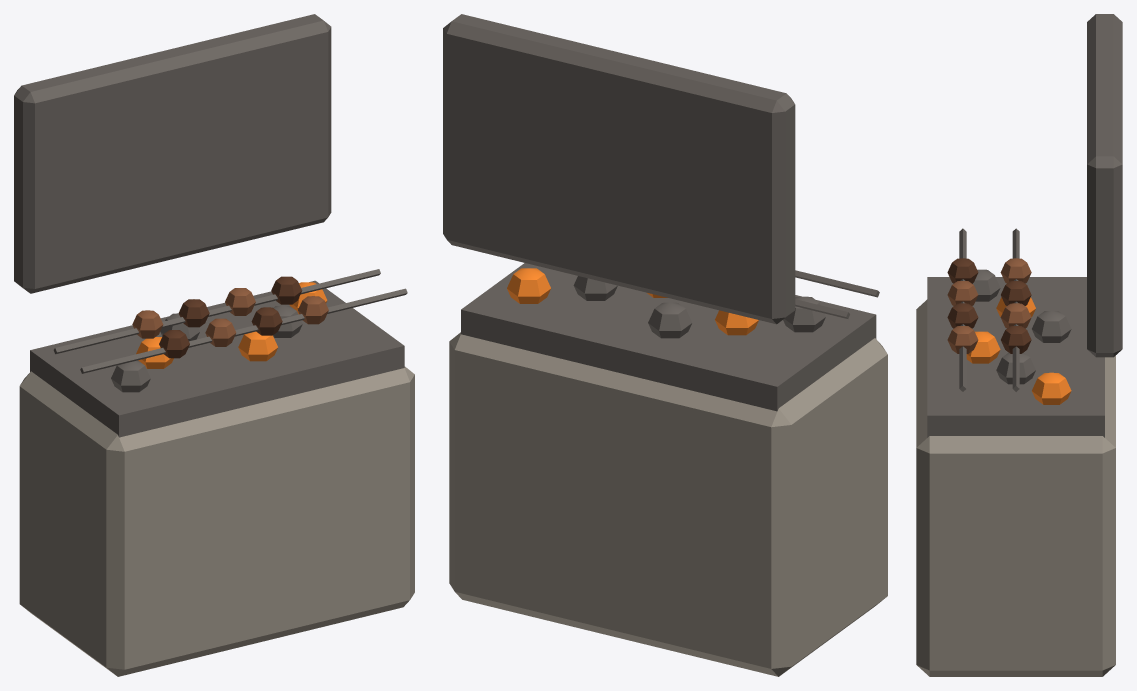
The model's file is PR_Station_Mangal_T1.fbx.
The picture shows the model from 3 angles, left to right: view 1: azimuth 30°, elevation 25°; view 2: azimuth 150°, elevation 25°; view 3: azimuth 270°, elevation 25°; orthographic projection. The views are drawn at different scales.
Parts seen in each view (by area): view 1: PR_Station_Mangal_T1; view 2: PR_Station_Mangal_T1; view 3: PR_Station_Mangal_T1.
Boxes of the visible parts, x1,y1,x2,y2 form: PR_Station_Mangal_T1: (14, 14, 414, 676); PR_Station_Mangal_T1: (443, 14, 887, 676); PR_Station_Mangal_T1: (916, 14, 1122, 676).
Size of the model in its own units: 0.84 by 1.3 by 0.465.
